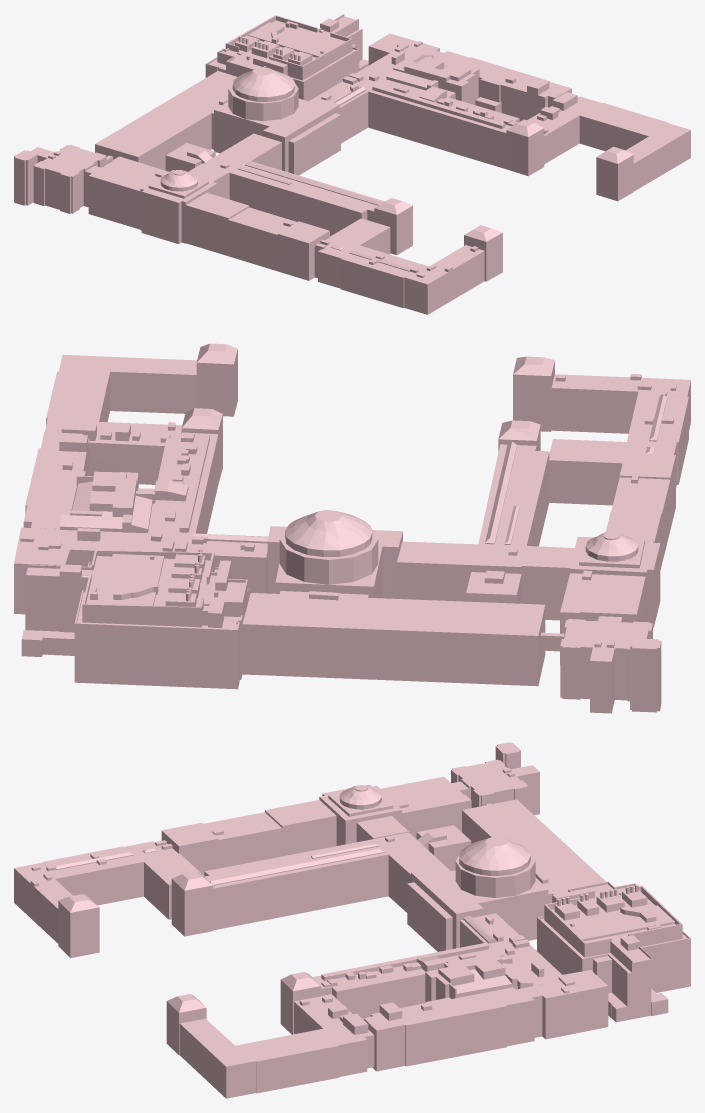
File: BUILDING10_1.gltf
The picture shows the model from 3 angles, top to bottom: view 1: azimuth 30°, elevation 25°; view 2: azimuth 150°, elevation 25°; view 3: azimuth 270°, elevation 25°; orthographic projection. The views are drawn at different scales.
Parts seen in each view (by area): view 1: Camb3D_Bldg_Active_MP; view 2: Camb3D_Bldg_Active_MP; view 3: Camb3D_Bldg_Active_MP.
Boxes of the visible parts, x1=… form: Camb3D_Bldg_Active_MP: x1=14, y1=14, x2=690, y2=314; Camb3D_Bldg_Active_MP: x1=14, y1=343, x2=690, y2=713; Camb3D_Bldg_Active_MP: x1=14, y1=742, x2=690, y2=1098.
Bounding box in the file's own units: 1123 × 156 × 1049.
